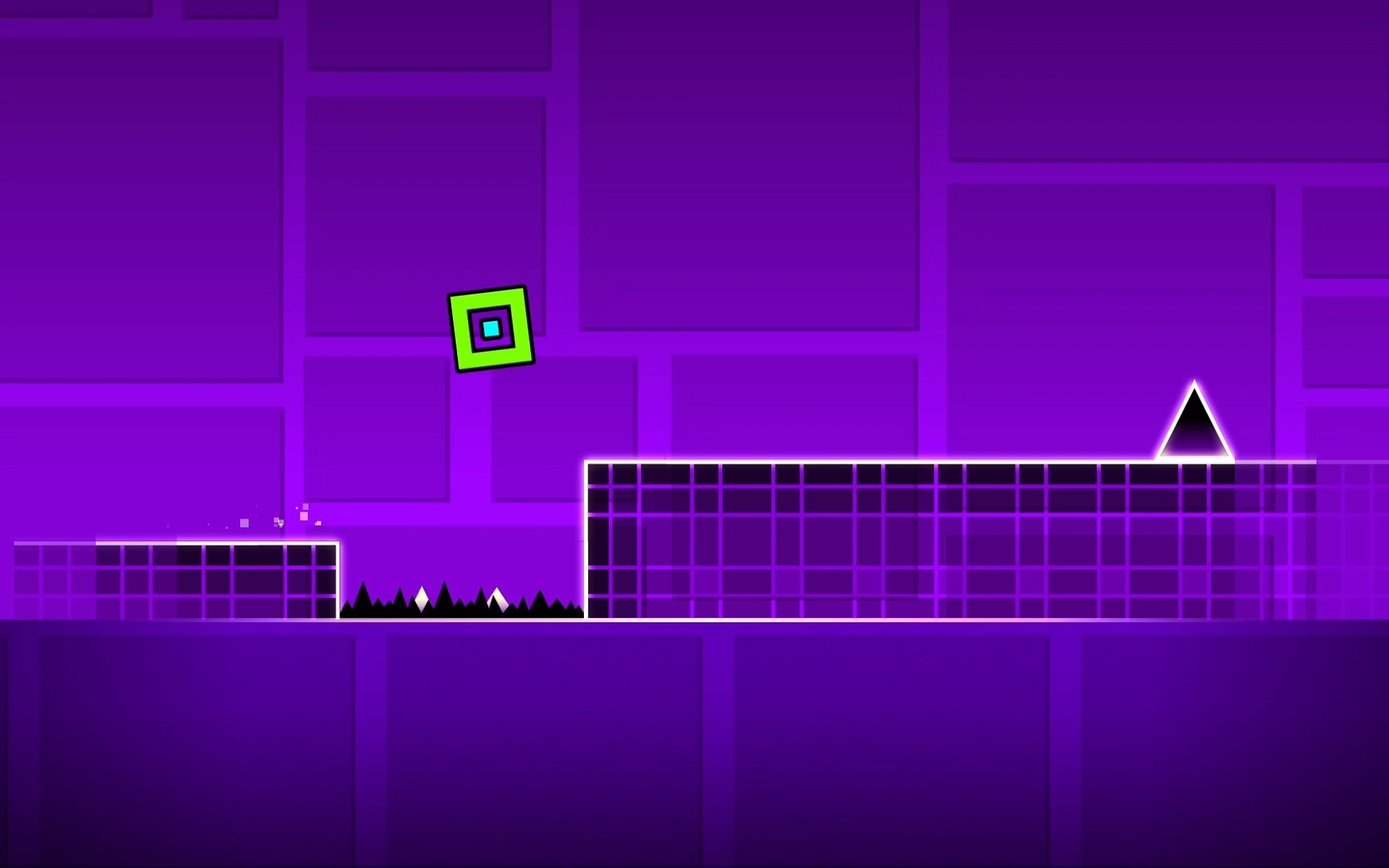Block2: (584, 458, 1384, 611), (6, 542, 340, 617)
Player: (447, 286, 534, 371)
Spike: (1156, 380, 1232, 459)
Spike3: (342, 583, 585, 623)
